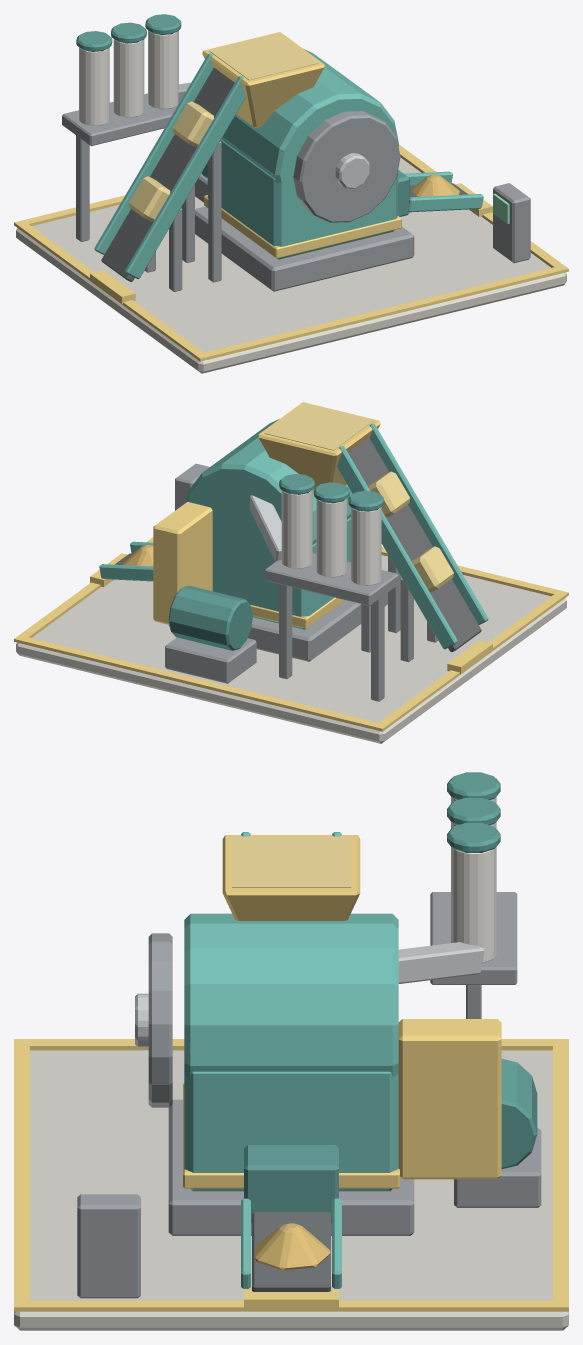
File: Shredder.fbx
3 views of the same model, one above another, from view 1: azimuth 30°, elevation 25°; view 2: azimuth 150°, elevation 25°; view 3: azimuth 270°, elevation 25° (orthographic). The views are drawn at different scales.
Visible parts, largest first — view 1: SH_Base, SH_Flywheel, SH_RotorHousing, SH_Body, SH_Plinth, SH_InfeedBelt, SH_InfeedRailR, SH_Throat, SH_EdgeS, SH_ThroatStraw, SH_InfeedRailL, SH_FilterFrame (+22 smaller); view 2: SH_Base, SH_RotorHousing, SH_BeltGuard, SH_Body, SH_Motor, SH_InfeedBelt, SH_EdgeN, SH_Plinth, SH_InfeedRailL, SH_Throat, SH_MotorPlinth, SH_FilterFrame (+24 smaller); view 3: SH_Base, SH_RotorHousing, SH_Body, SH_BeltGuard, SH_Plinth, SH_ControlPanel, SH_Discharge, SH_ThroatStraw, SH_Throat, SH_EdgeE, SH_FilterBag3, SH_EdgeN (+17 smaller).
Part boxes in pixels (x1,y1,x2,y2): SH_Base: (16,157,566,373); SH_Flywheel: (293,111,400,222); SH_RotorHousing: (221,49,398,216); SH_Body: (207,139,398,259); SH_Plinth: (195,206,414,291); SH_InfeedBelt: (101,67,234,281); SH_InfeedRailR: (125,75,245,278); SH_Throat: (202,32,325,127); SH_EdgeS: (195,265,568,361); SH_ThroatStraw: (209,34,318,80); SH_InfeedRailL: (94,53,213,254); SH_FilterFrame: (62,93,177,146); SH_Base: (16,555,566,743); SH_RotorHousing: (186,419,352,593); SH_BeltGuard: (153,502,212,624); SH_Body: (212,517,350,629); SH_Motor: (168,585,252,650); SH_InfeedBelt: (348,438,481,651); SH_EdgeN: (14,635,387,731); SH_Plinth: (168,592,387,661); SH_InfeedRailL: (337,446,457,649); SH_Throat: (257,402,380,488); SH_MotorPlinth: (165,637,256,683); SH_FilterFrame: (265,553,398,605); SH_Base: (14,1050,568,1330); SH_RotorHousing: (184,913,398,1076); SH_Body: (184,1071,398,1191); SH_BeltGuard: (398,1019,501,1179); SH_Plinth: (168,1099,414,1235); SH_ControlPanel: (77,1194,140,1298); SH_Discharge: (244,1145,338,1222); SH_ThroatStraw: (232,836,350,887); SH_Throat: (222,835,360,920); SH_EdgeE: (30,1300,552,1311); SH_FilterBag3: (451,847,496,962); SH_EdgeN: (553,1039,568,1311).
Bounding box in the file's own units: 16.1 × 8.87 × 14.
